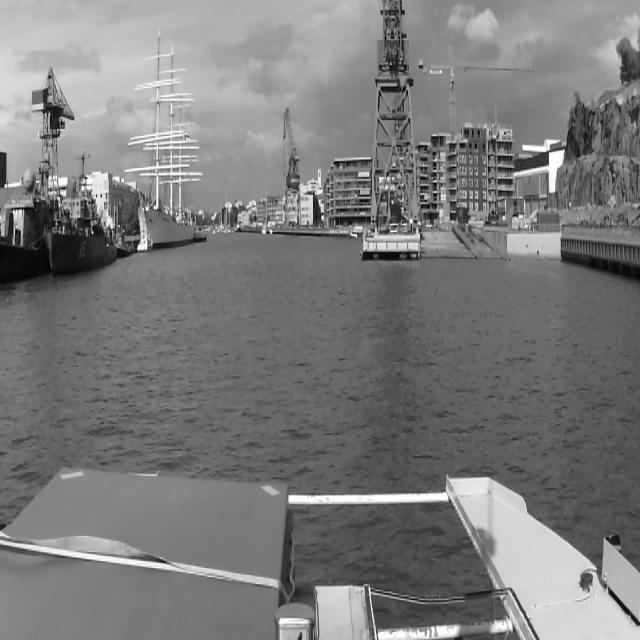ship: (128, 28, 204, 252), (50, 155, 116, 270), (0, 154, 48, 279), (262, 194, 274, 234), (346, 223, 372, 241), (186, 228, 210, 244), (225, 196, 232, 233)
